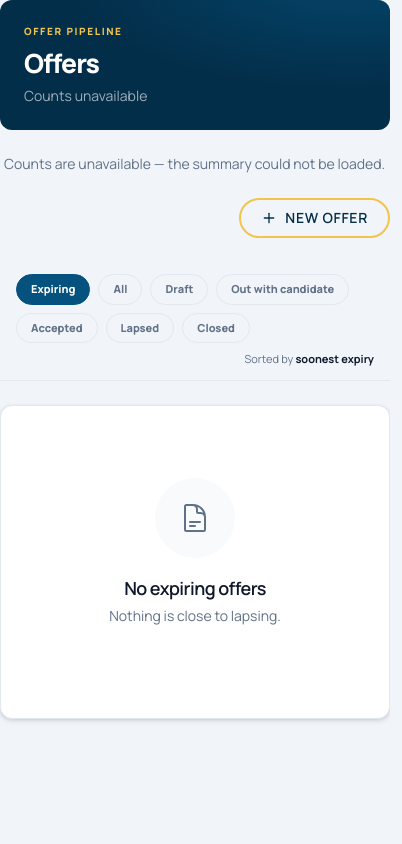
Scenario: Offer creation — validation › requires a candidate
Click the button "New Offer" at [315, 218], box [239,198,390,238]
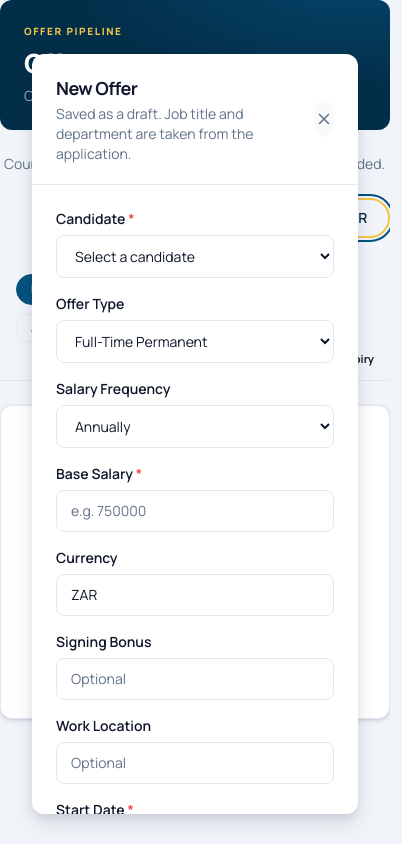
Type "750000" into the number field labelled "Base Salary *" at [195, 511], box [56,490,334,532]
(page scrolled)
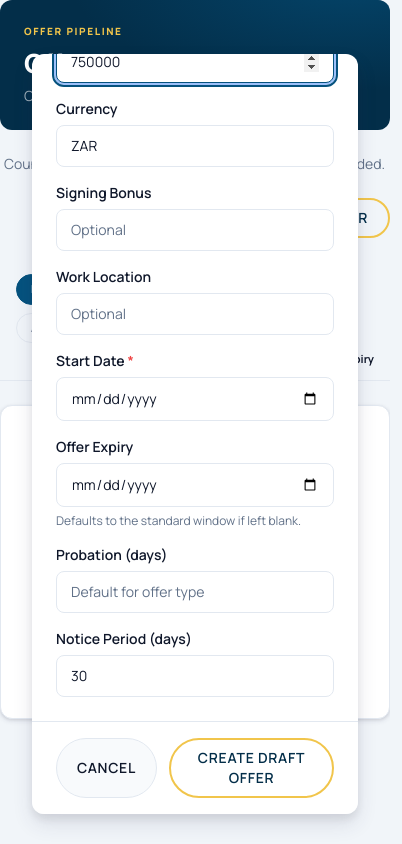
Click the button "Create Draft Offer" at [252, 768], box [169,738,334,798]
(page scrolled)
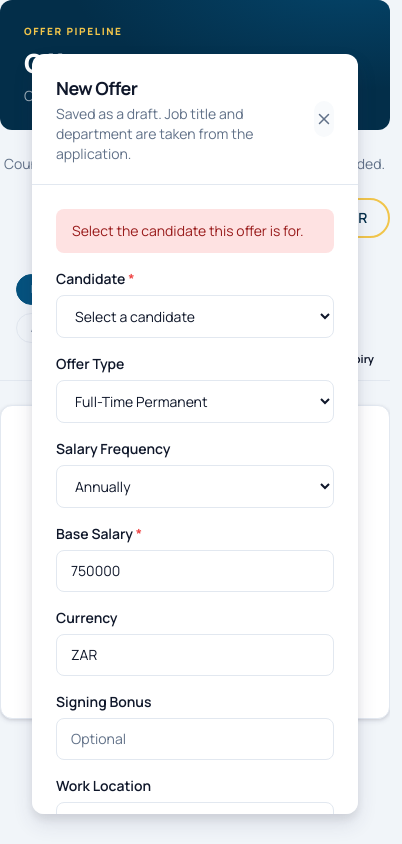
Expected: the text "Select the candidate this offer is for." is shown, [56,209,334,253]
